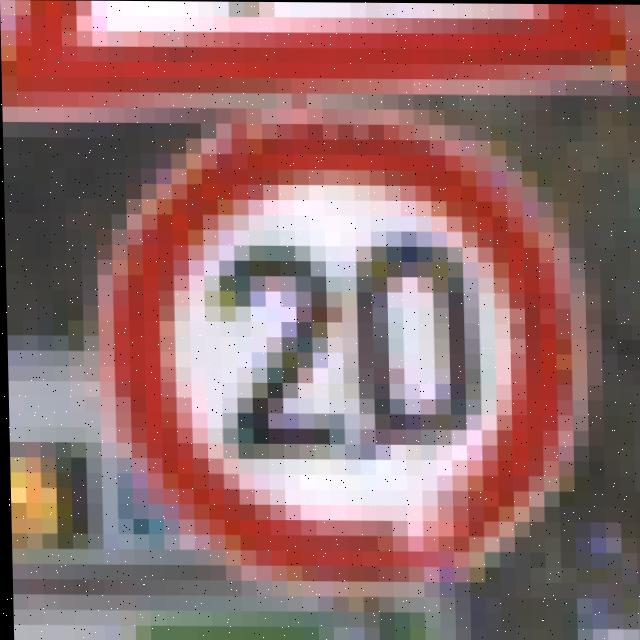speed_limit_20: (97, 112, 598, 597)
